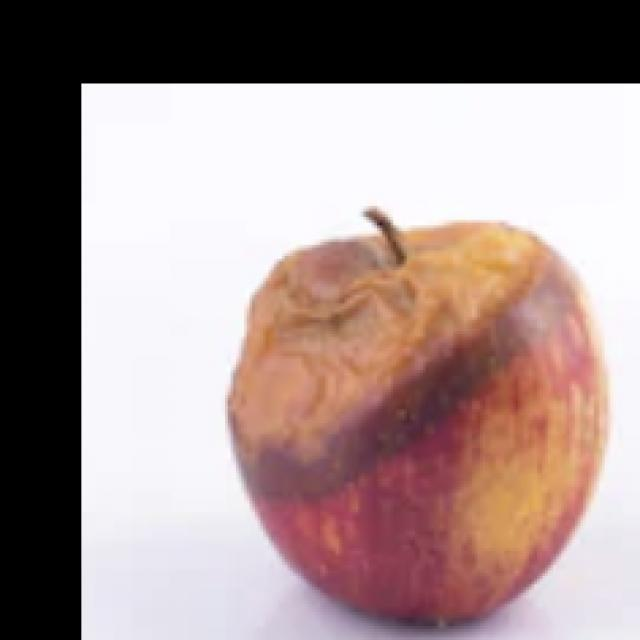Rotten: (225, 228, 625, 640)
